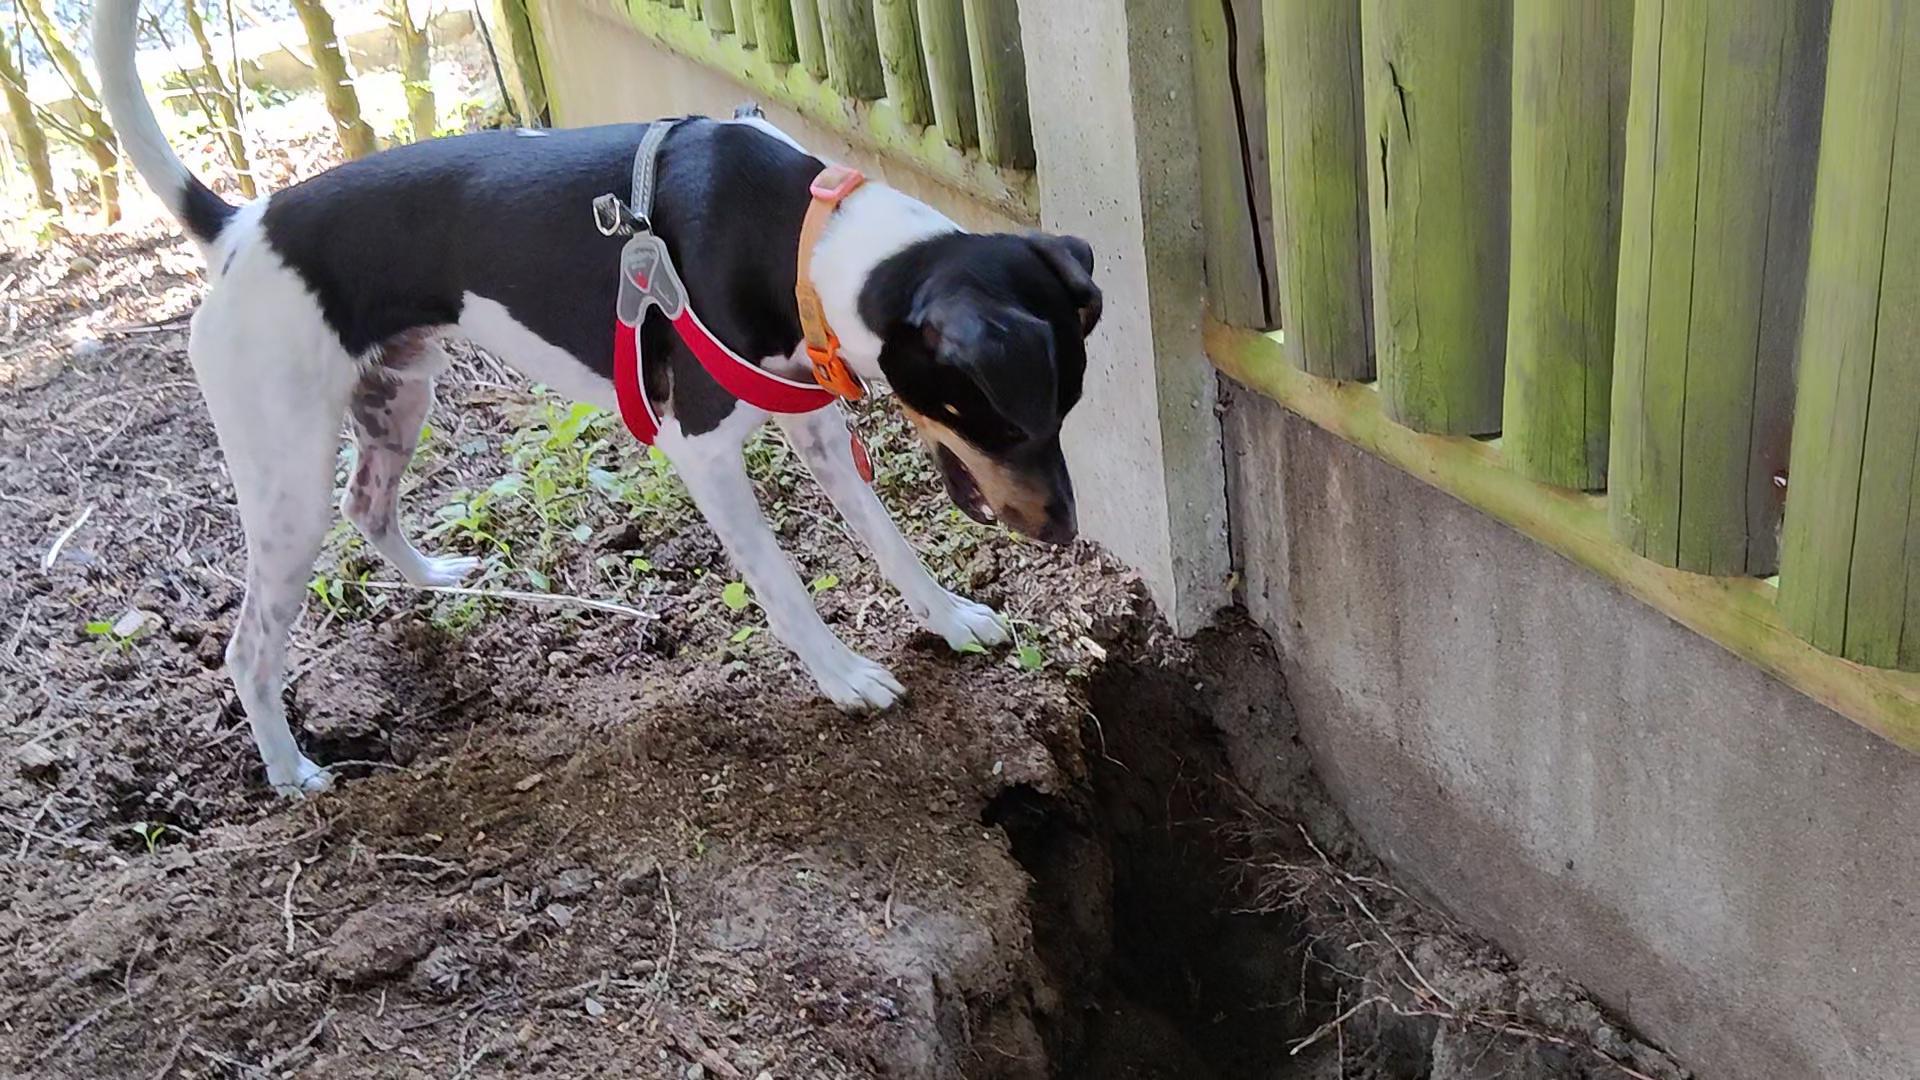Dog: (76, 0, 1126, 806)
